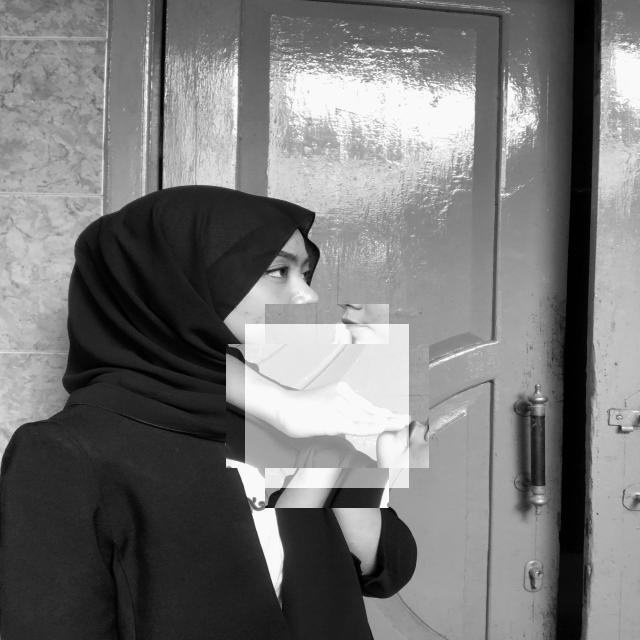ganteng: (245, 324, 409, 488)
